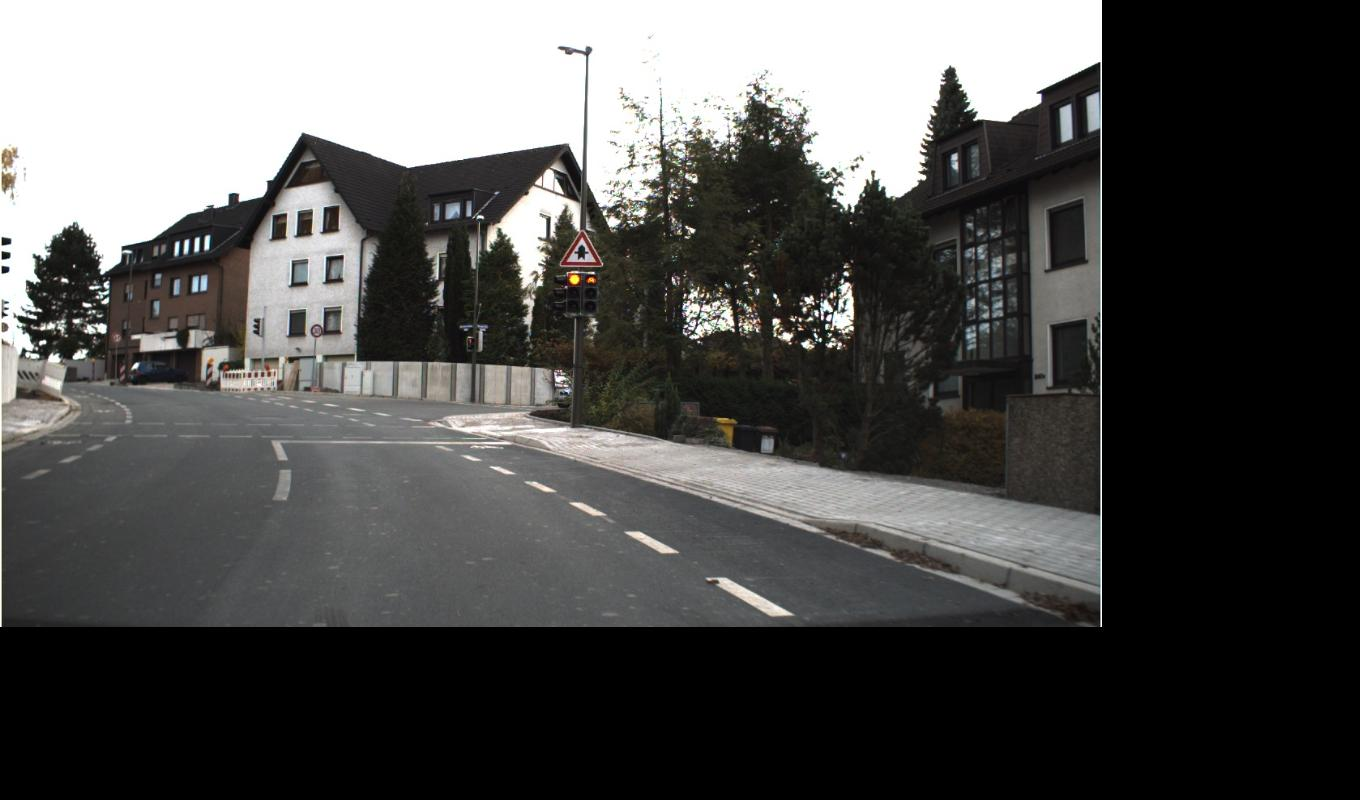speed limit 30: (310, 229, 604, 338)
